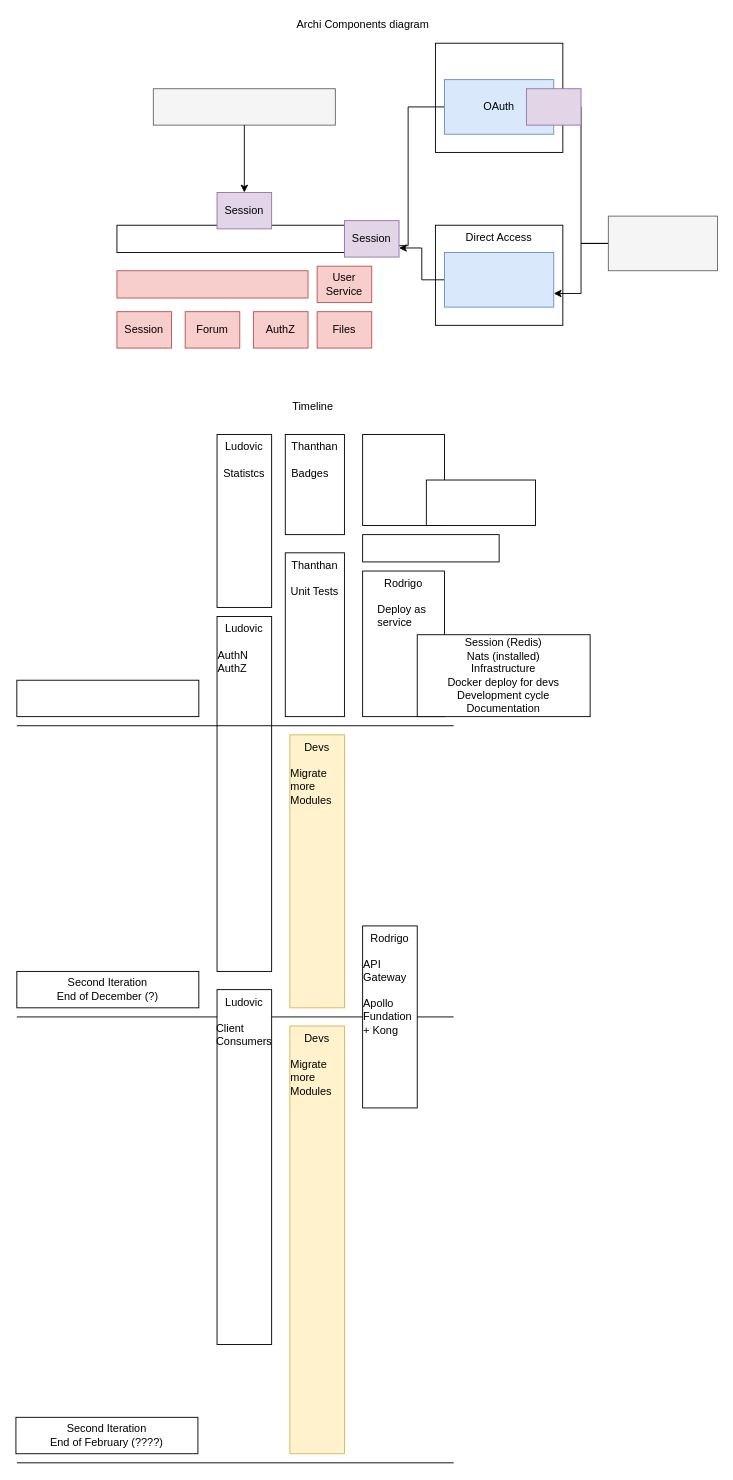
Some shapes in this 733 by 1480 pixel diagram are drawn without their labels. The shapes that lost their labels are listed below. From the top down, each one's box as (x1, y1, x2, y2) in pixels, then its label:
(152, 88, 335, 125): Mobile / Web
(435, 42, 563, 152): On Behalf of User
(526, 88, 581, 125): Access Token
(116, 224, 372, 253): API Gateway (Apollo Fundation (?))
(607, 215, 718, 271): Client Consumers
(116, 270, 308, 298): Meteor
(444, 252, 554, 307): API Tokens
(362, 434, 445, 526): Rodrigo Occupant Feed
(425, 479, 536, 526): Mobile Web backend
(362, 534, 499, 562): Add DB queries metrics
(16, 679, 199, 717): First iteration End of September
